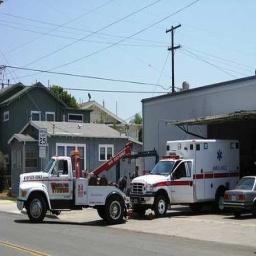Ambulance: (17, 142, 131, 223), (130, 139, 239, 216)
